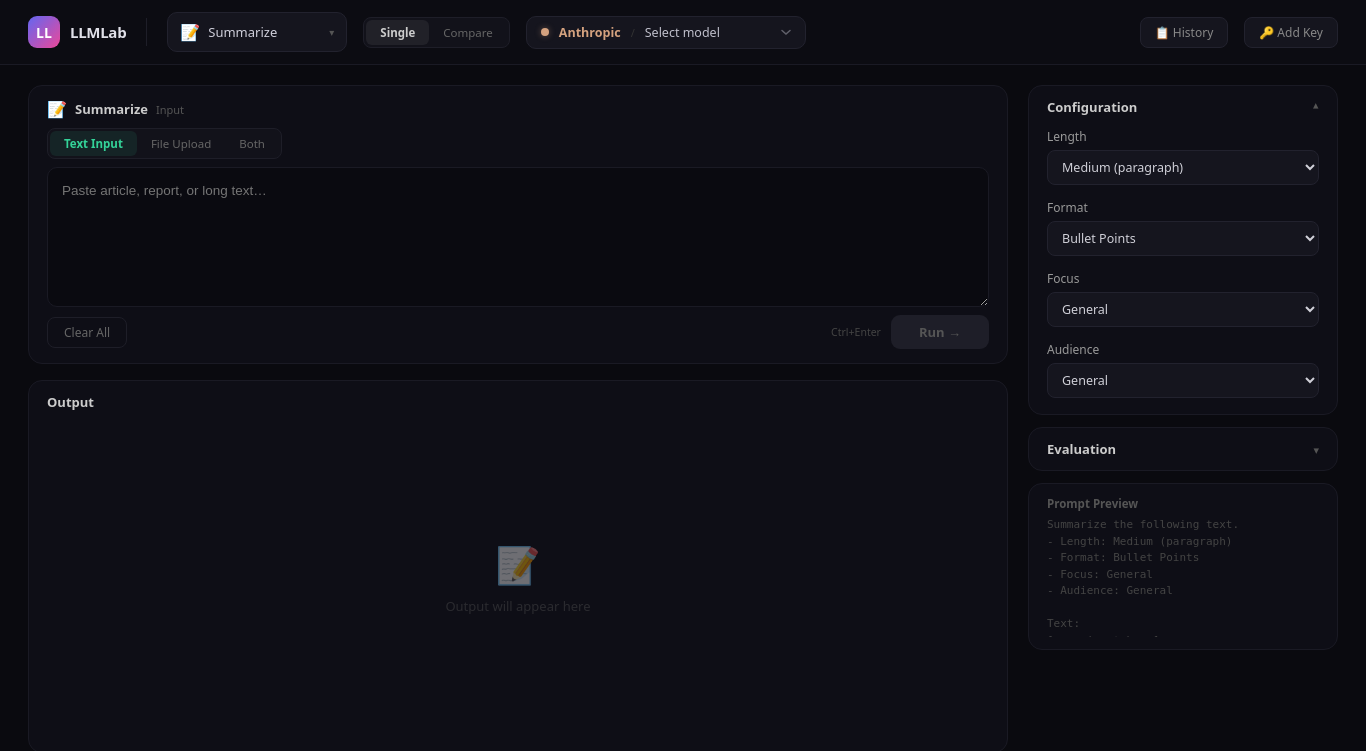
Test: App › shows judge model selector in compare mode
Click the button "Compare".
click(468, 32)  # box [429,20,507,44]
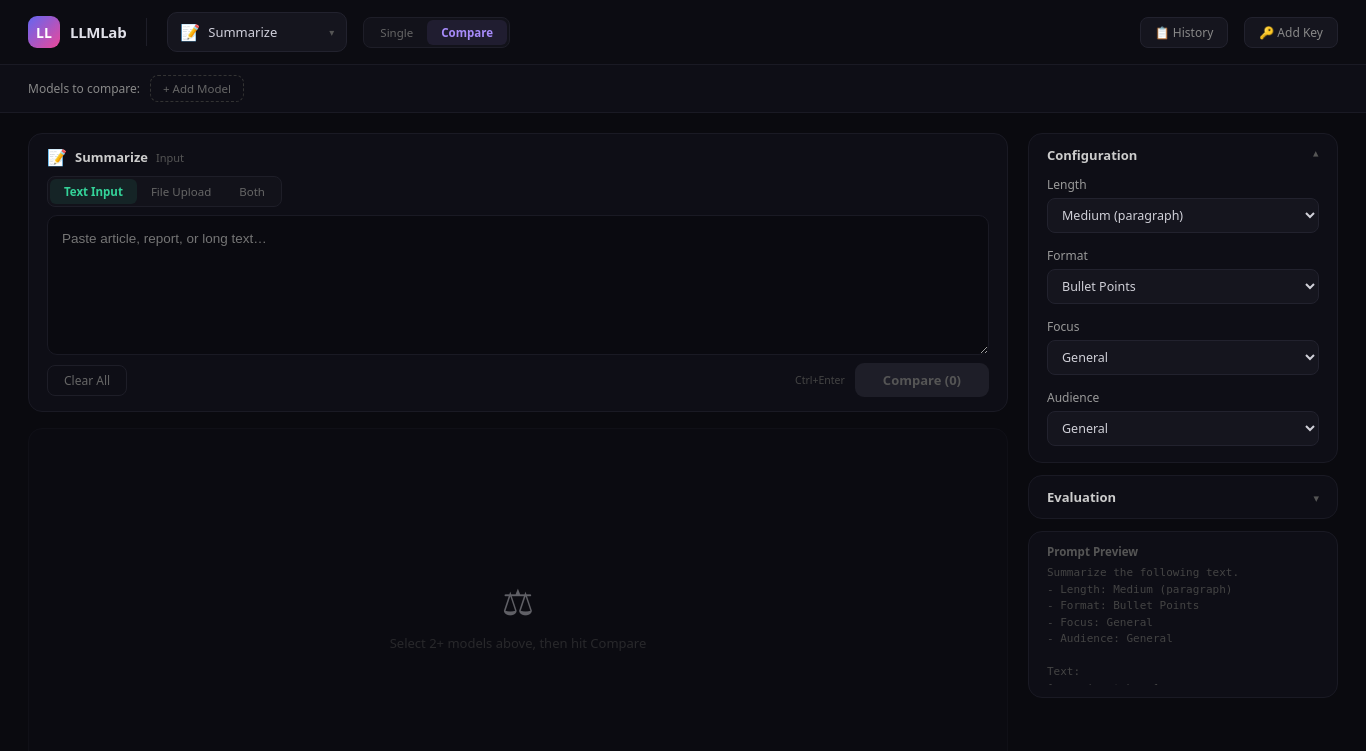
Click the text "Evaluation".
click(1082, 497)  # box [1047,488,1116,506]
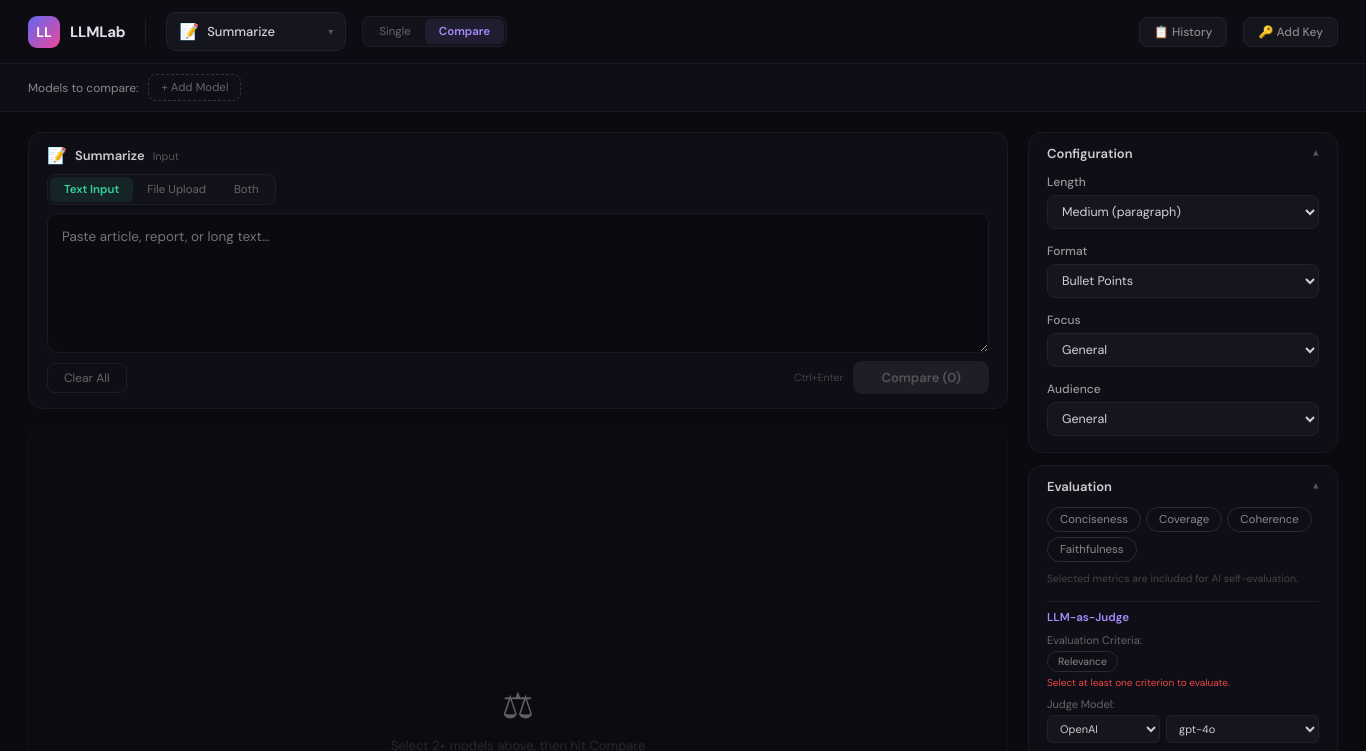
Now the text "Judge Model:" is shown, box [1047,697,1114,711]
